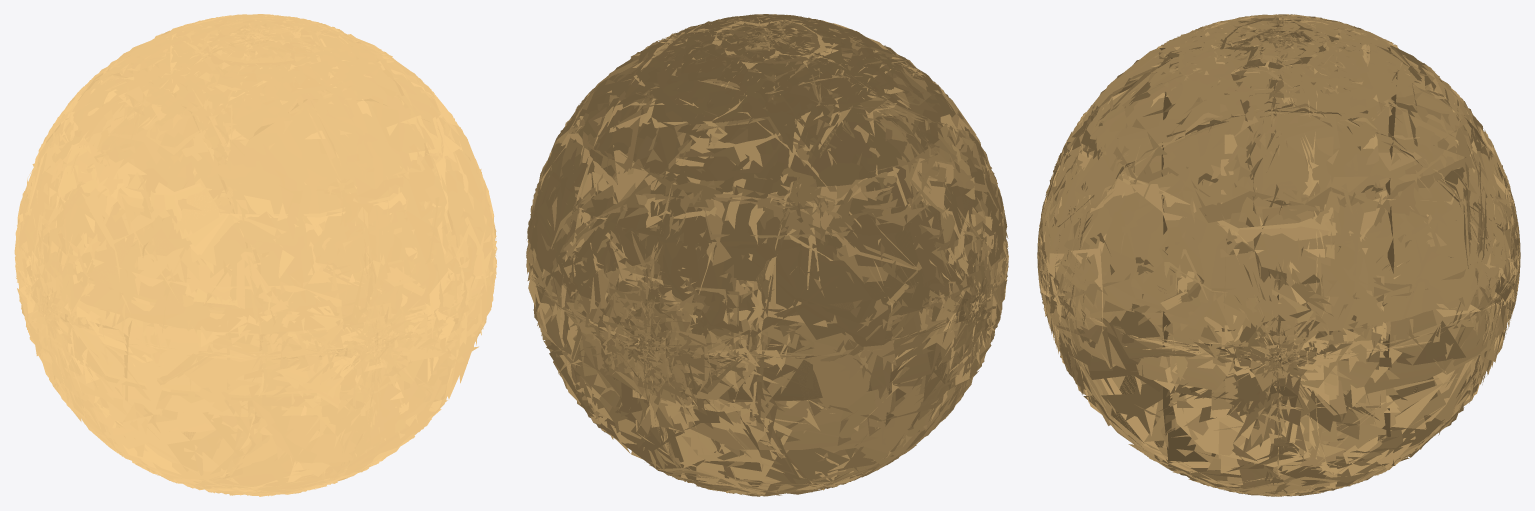
Rendered from stage8.glb.
The picture shows the model from 3 angles, left to right: view 1: azimuth 30°, elevation 25°; view 2: azimuth 150°, elevation 25°; view 3: azimuth 270°, elevation 25°; orthographic projection.
Visible parts, largest first — view 1: ehouse-8-equipment; view 2: ehouse-8-equipment; view 3: ehouse-8-equipment.
Part boxes in pixels (<box>): ehouse-8-equipment: <box>14,14,497,496</box>; ehouse-8-equipment: <box>526,14,1008,496</box>; ehouse-8-equipment: <box>1037,14,1520,496</box>.
Size of the model in its own units: 2 by 2 by 2.
